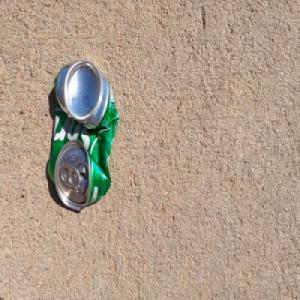SodaCan: (46, 58, 119, 212)
